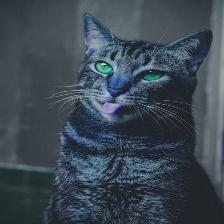kedo: (45, 13, 224, 224)
